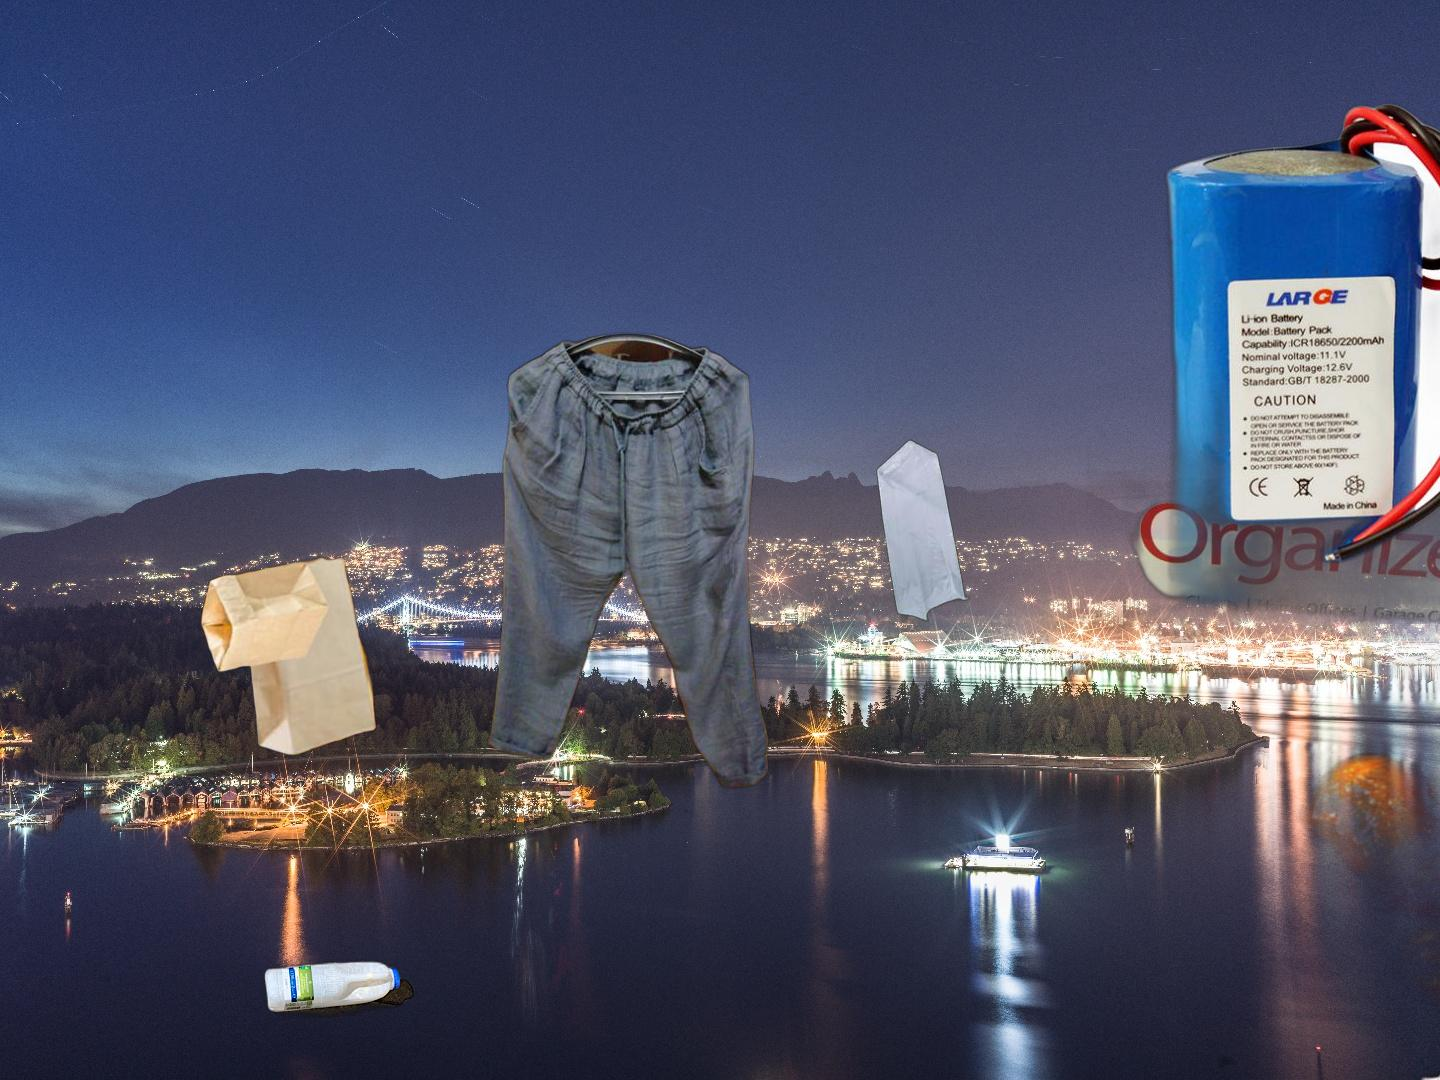battery: (1160, 98, 1440, 617)
biological: (1296, 606, 1440, 1022)
clothes: (483, 277, 772, 792)
paper: (1086, 373, 1440, 626)
paper-bag: (198, 554, 380, 757)
plastic-bag: (875, 437, 1084, 628)
plastic-bottles: (259, 955, 418, 1022)
trashbox-cardboard: (1178, 1044, 1440, 1080)
